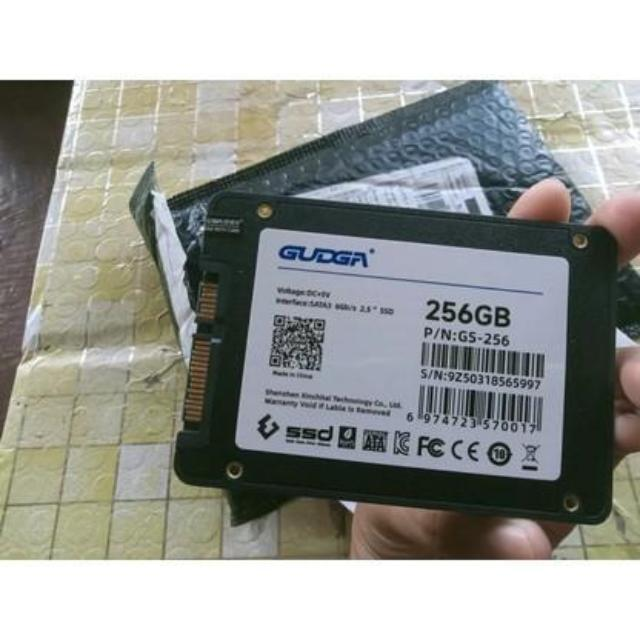DISK: (172, 188, 618, 524)
